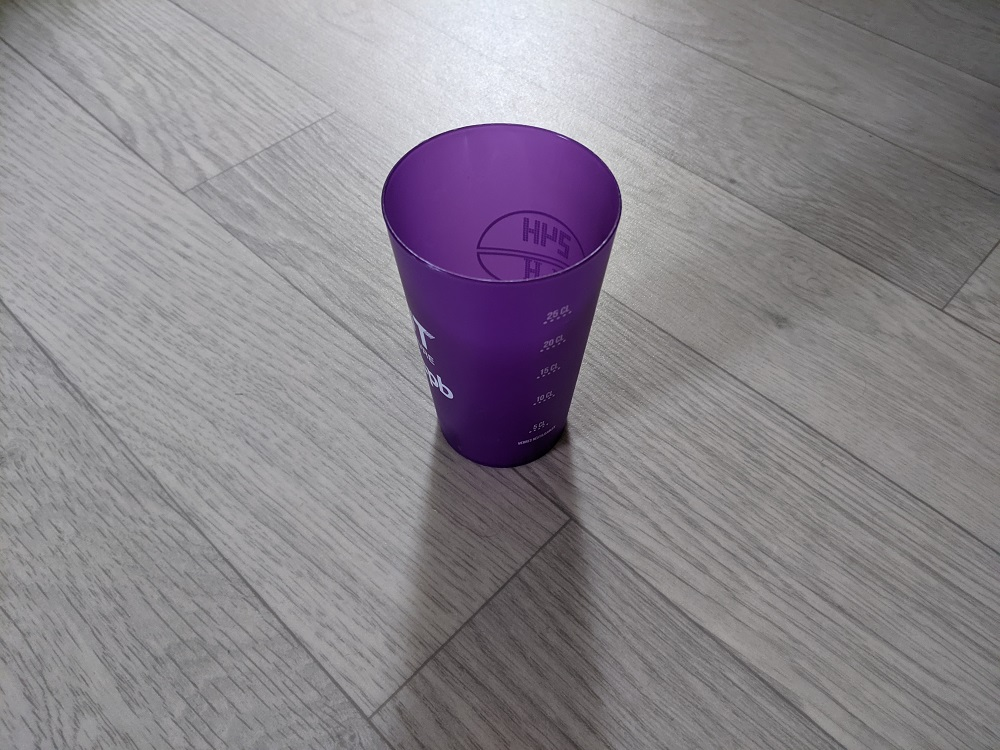ecocup: (381, 123, 622, 468)
